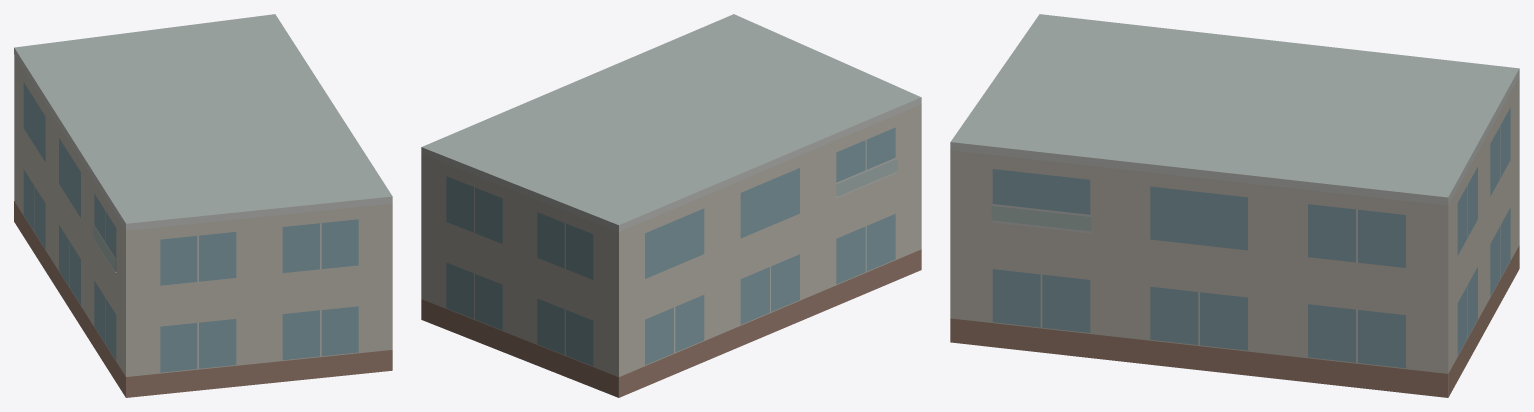
Rendered from survey-upis-32996235.glb.
3 views of the same model, side by side, from view 1: azimuth 30°, elevation 25°; view 2: azimuth 150°, elevation 25°; view 3: azimuth 270°, elevation 25° (orthographic). The views are drawn at different scales.
Parts seen in each view (by area): view 1: survey-upis-32996235.tmp; view 2: survey-upis-32996235.tmp; view 3: survey-upis-32996235.tmp.
Part boxes in pixels (x1,y1,x2,y2): survey-upis-32996235.tmp: (14,14,392,397); survey-upis-32996235.tmp: (421,14,921,397); survey-upis-32996235.tmp: (950,14,1519,397).
Size of the model in its own units: 11.99 by 6.1 by 15.72.
